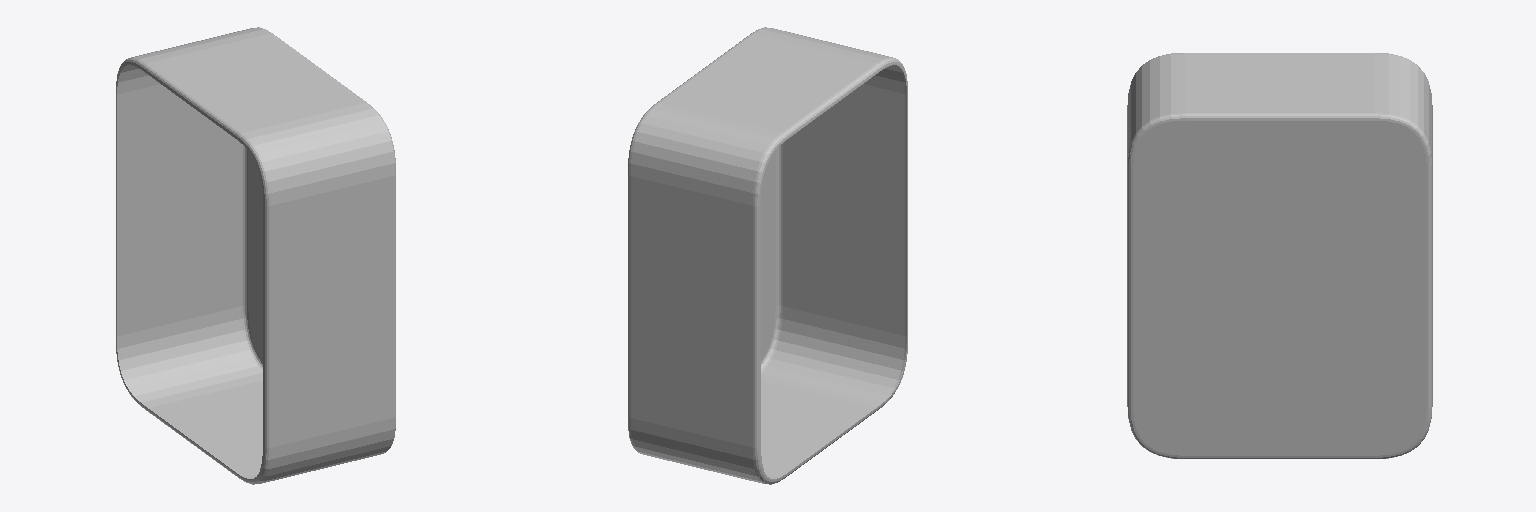
File: case.obj
The picture shows the model from 3 angles: view 1: azimuth 30°, elevation 25°; view 2: azimuth 150°, elevation 25°; view 3: azimuth 270°, elevation 25°; orthographic projection.
Parts seen in each view (by area): view 1: case; view 2: case; view 3: case.
Part boxes in pixels (bbox=[...]): case: bbox=[116, 27, 395, 484]; case: bbox=[628, 27, 907, 484]; case: bbox=[1127, 53, 1432, 458].
Size of the model in its own units: 80 by 200 by 160.